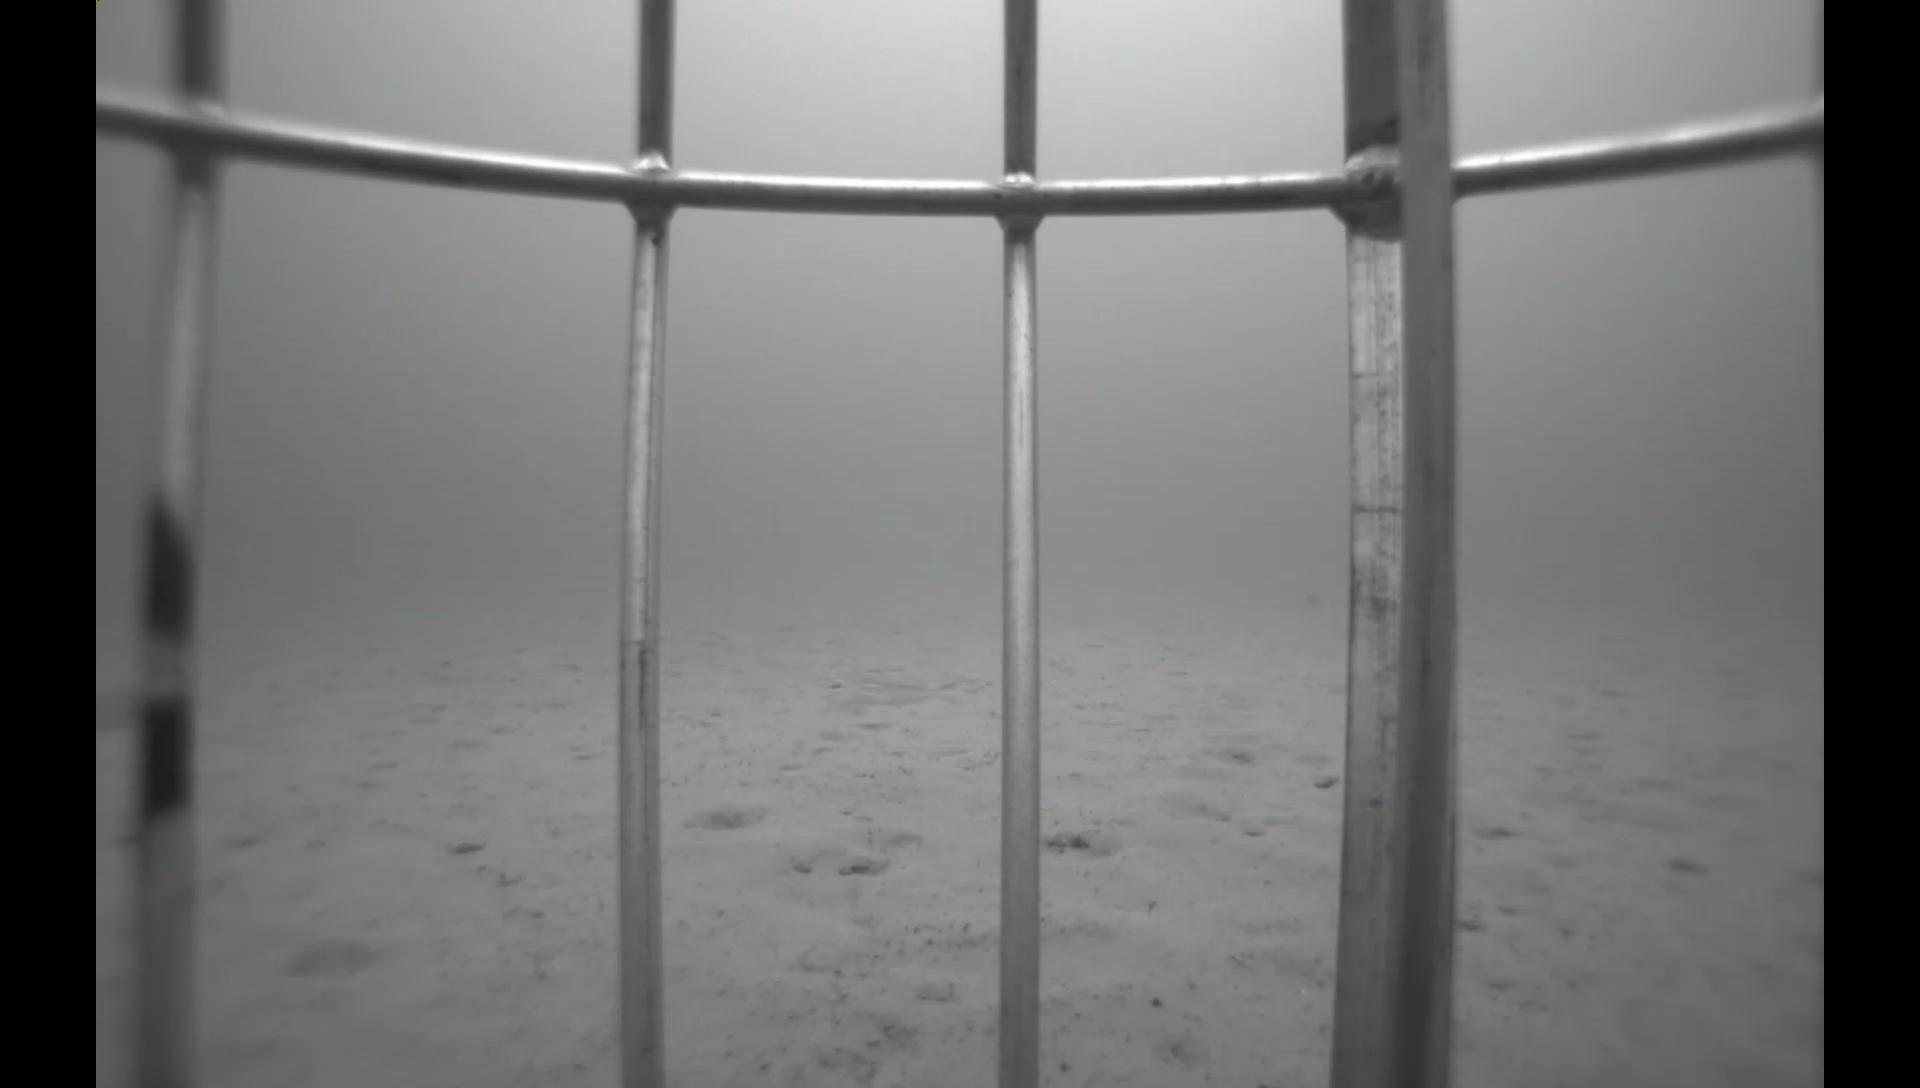CAULOLATILUSCYANOPS-170070101: (814, 662, 982, 717)
PRISTIPOMOIDES-170151800: (1692, 973, 1826, 1084)
